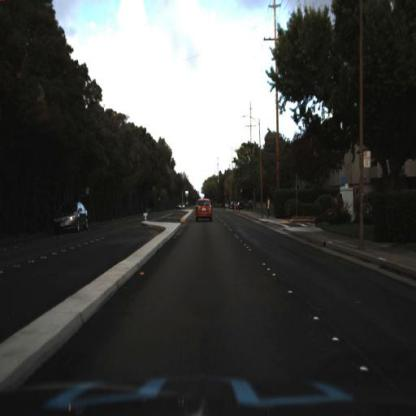car: (52, 195, 92, 239), (196, 196, 214, 223)
pedestrian: (265, 192, 275, 224)
